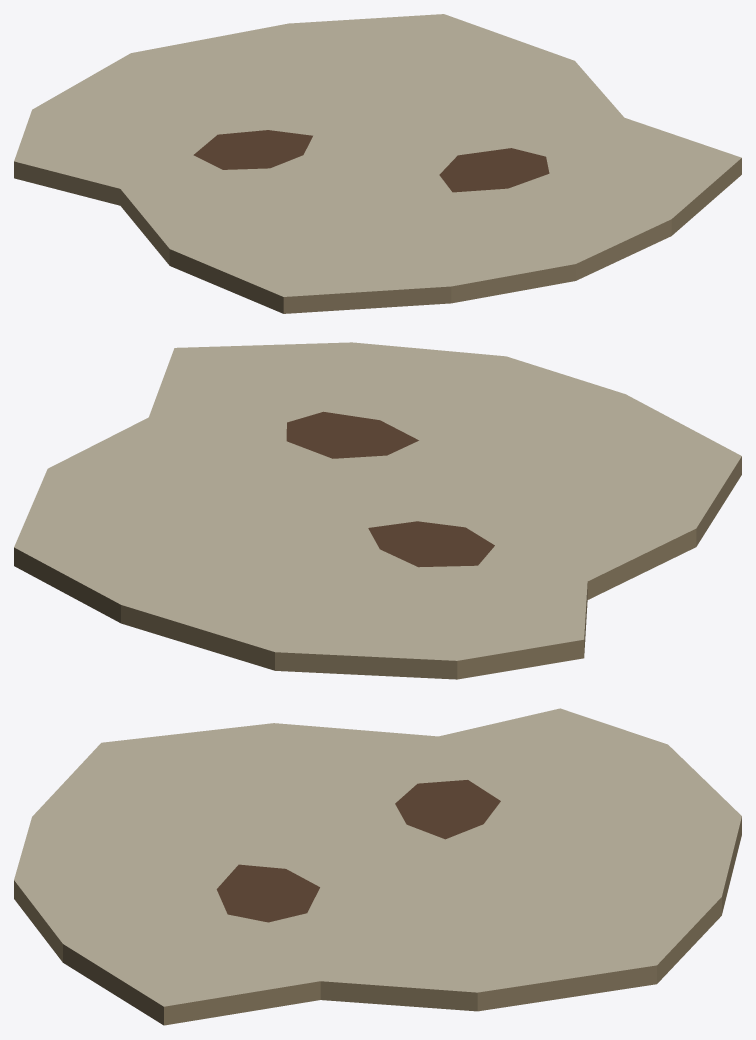
Rendered from CowHide.glb.
The picture shows the model from 3 angles, top to bottom: view 1: azimuth 30°, elevation 25°; view 2: azimuth 150°, elevation 25°; view 3: azimuth 270°, elevation 25°; orthographic projection. The views are drawn at different scales.
Parts seen in each view (by area): view 1: CowHide; view 2: CowHide; view 3: CowHide.
Part boxes in pixels (x1,y1,x2,y2): CowHide: [14, 14, 741, 313]; CowHide: [14, 342, 741, 679]; CowHide: [14, 708, 741, 1025].
Size of the model in its own units: 1.7 by 0.059 by 1.75.
